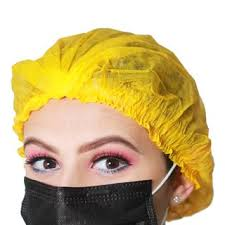with_mask_and_cap: (12, 28, 187, 225)
